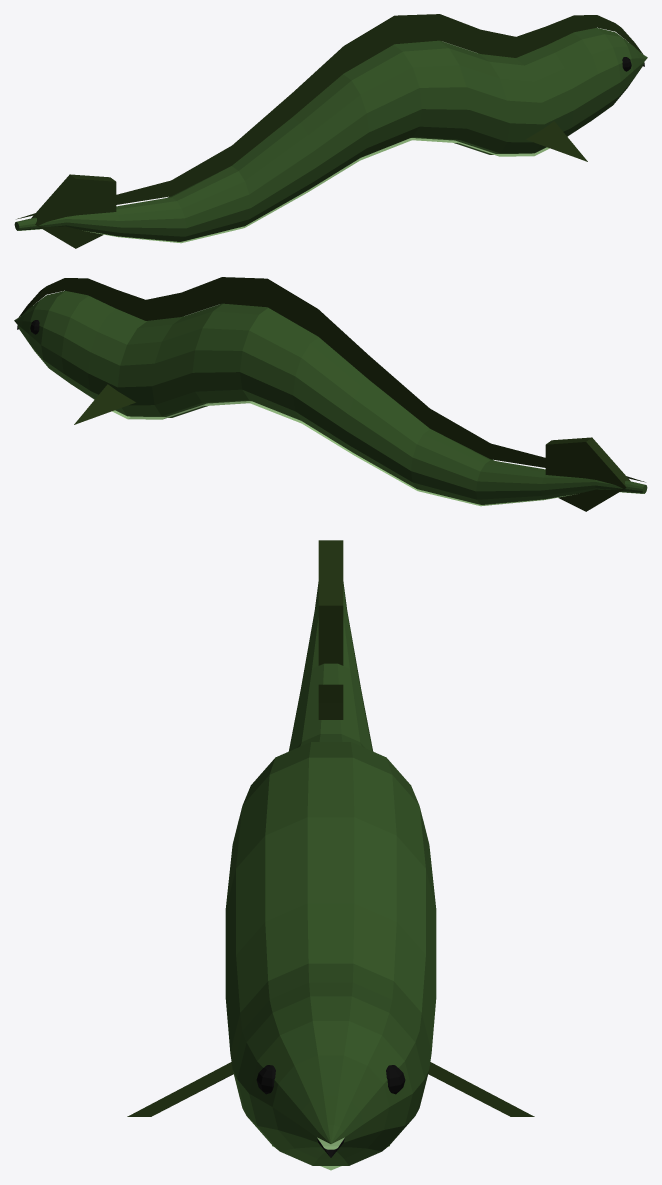
Rendered from Eel.fbx.
3 renders of one model, top to bottom at view 1: azimuth 30°, elevation 25°; view 2: azimuth 150°, elevation 25°; view 3: azimuth 270°, elevation 25°, orthographic. The views are drawn at different scales.
Parts seen in each view (by area): view 1: Eel_BodyMat_body, Eel_FinMat_dorsalFin, Eel_FinMat_tailFin, Eel_BellyMat_belly, Eel_FinMat_pectoralFin_L; view 2: Eel_BodyMat_body, Eel_FinMat_dorsalFin, Eel_FinMat_tailFin, Eel_BellyMat_belly, Eel_FinMat_pectoralFin_R; view 3: Eel_BodyMat_body, Eel_FinMat_tailFin, Eel_FinMat_pectoralFin_L, Eel_FinMat_pectoralFin_R, Eel_FinMat_dorsalFin.
Boxes of the visible parts, x1=… form: Eel_BodyMat_body: x1=14, y1=28, x2=647, y2=241; Eel_FinMat_dorsalFin: x1=16, y1=14, x2=643, y2=219; Eel_FinMat_tailFin: x1=31, y1=174, x2=116, y2=248; Eel_BellyMat_belly: x1=18, y1=136, x2=567, y2=243; Eel_FinMat_pectoralFin_L: x1=526, y1=121, x2=587, y2=161; Eel_BodyMat_body: x1=14, y1=291, x2=647, y2=504; Eel_FinMat_dorsalFin: x1=18, y1=277, x2=645, y2=482; Eel_FinMat_tailFin: x1=545, y1=437, x2=630, y2=511; Eel_BellyMat_belly: x1=94, y1=399, x2=643, y2=506; Eel_FinMat_pectoralFin_R: x1=74, y1=384, x2=135, y2=424; Eel_BodyMat_body: x1=225, y1=582, x2=436, y2=1165; Eel_FinMat_tailFin: x1=318, y1=540, x2=343, y2=665; Eel_FinMat_pectoralFin_L: x1=127, y1=1062, x2=233, y2=1116; Eel_FinMat_pectoralFin_R: x1=428, y1=1062, x2=534, y2=1116; Eel_FinMat_dorsalFin: x1=318, y1=684, x2=343, y2=719.
Bounding box in the file's own units: 622 × 158 × 174.
